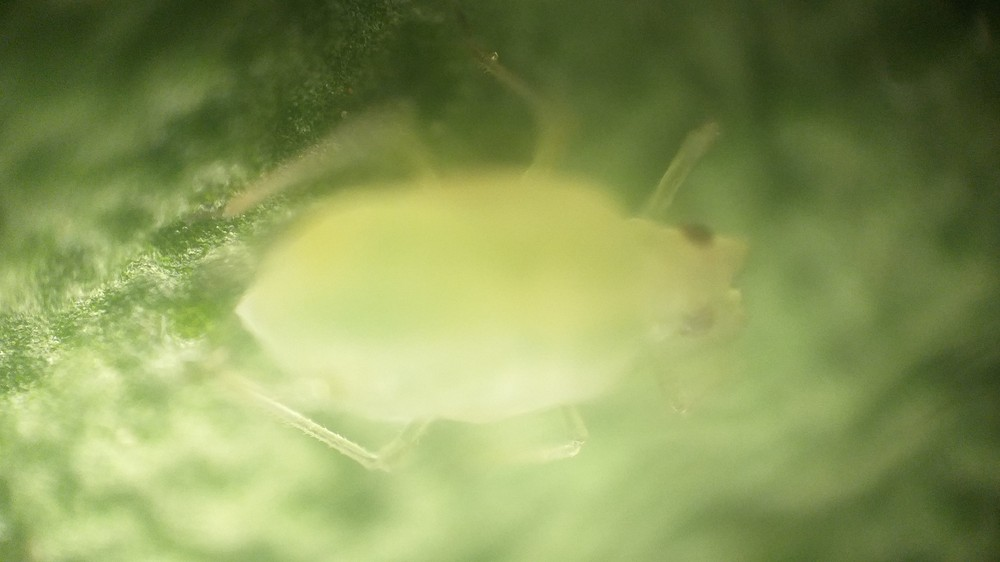Pulgon: (204, 66, 799, 518)
